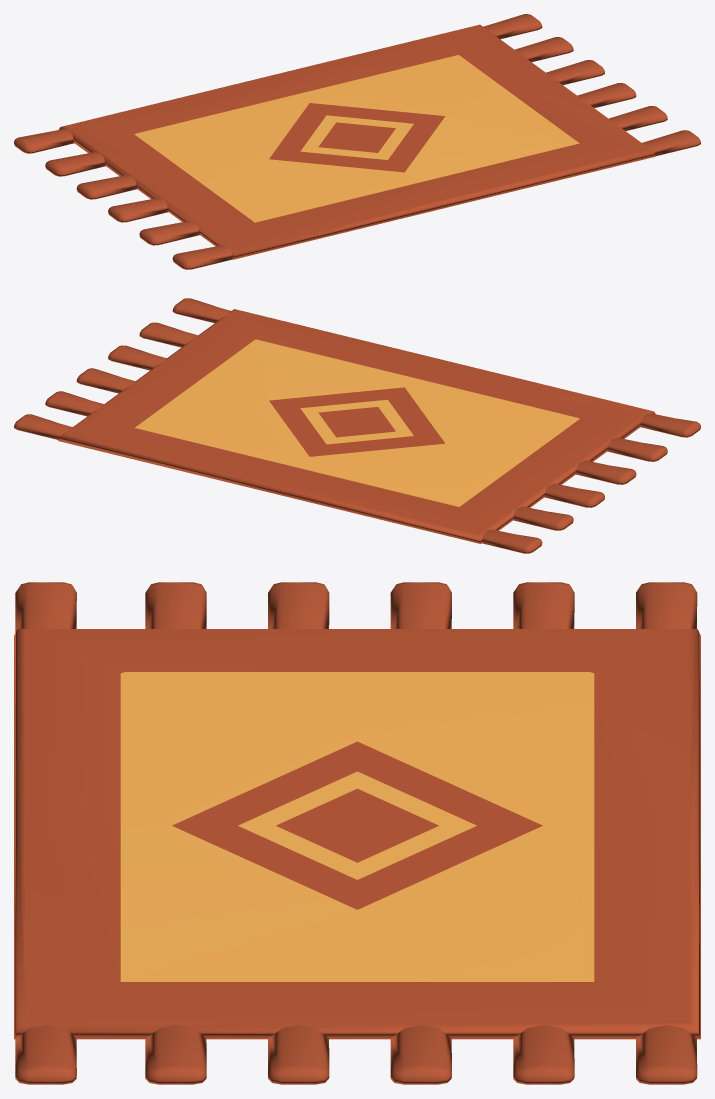
File: Carpet_08.glb
The picture shows the model from 3 angles, top to bottom: view 1: azimuth 30°, elevation 25°; view 2: azimuth 150°, elevation 25°; view 3: azimuth 270°, elevation 25°; orthographic projection. The views are drawn at different scales.
Visible parts, largest first — view 1: Carpet_08; view 2: Carpet_08; view 3: Carpet_08.
Part boxes in pixels (left/top/right/bottom): Carpet_08: left=14, top=14, right=700, bottom=269; Carpet_08: left=14, top=298, right=700, bottom=553; Carpet_08: left=14, top=582, right=700, bottom=1084.
Bounding box in the file's own units: 1.87 × 0.0246 × 1.1.
1 material, 1 textured.
